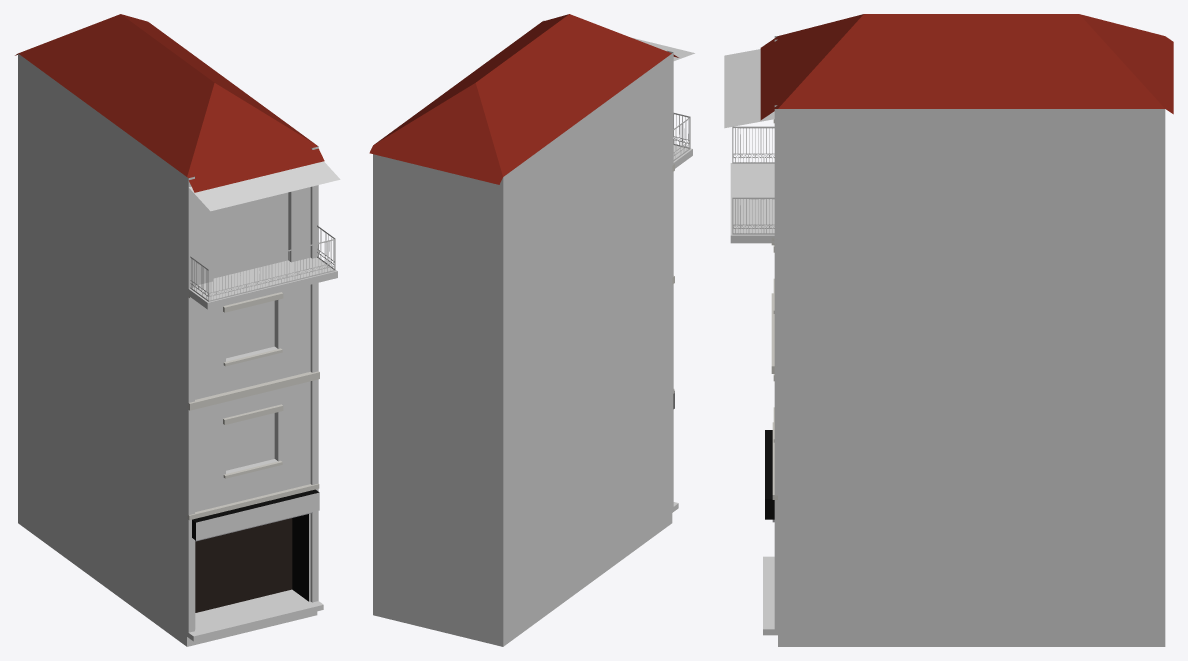
The picture shows the model from 3 angles, left to right: view 1: azimuth 30°, elevation 25°; view 2: azimuth 150°, elevation 25°; view 3: azimuth 270°, elevation 25°; orthographic projection. The views are drawn at different scales.
Visible parts, largest first — view 1: TH_D09_C_04_LOD0; view 2: TH_D09_C_04_LOD0; view 3: TH_D09_C_04_LOD0.
Part boxes in pixels (x1,y1,x2,y2): TH_D09_C_04_LOD0: (15, 14, 340, 646); TH_D09_C_04_LOD0: (369, 14, 694, 646); TH_D09_C_04_LOD0: (724, 14, 1173, 646).
Size of what is drawn, in the model's own units: 4 by 15.3 by 10.45.
